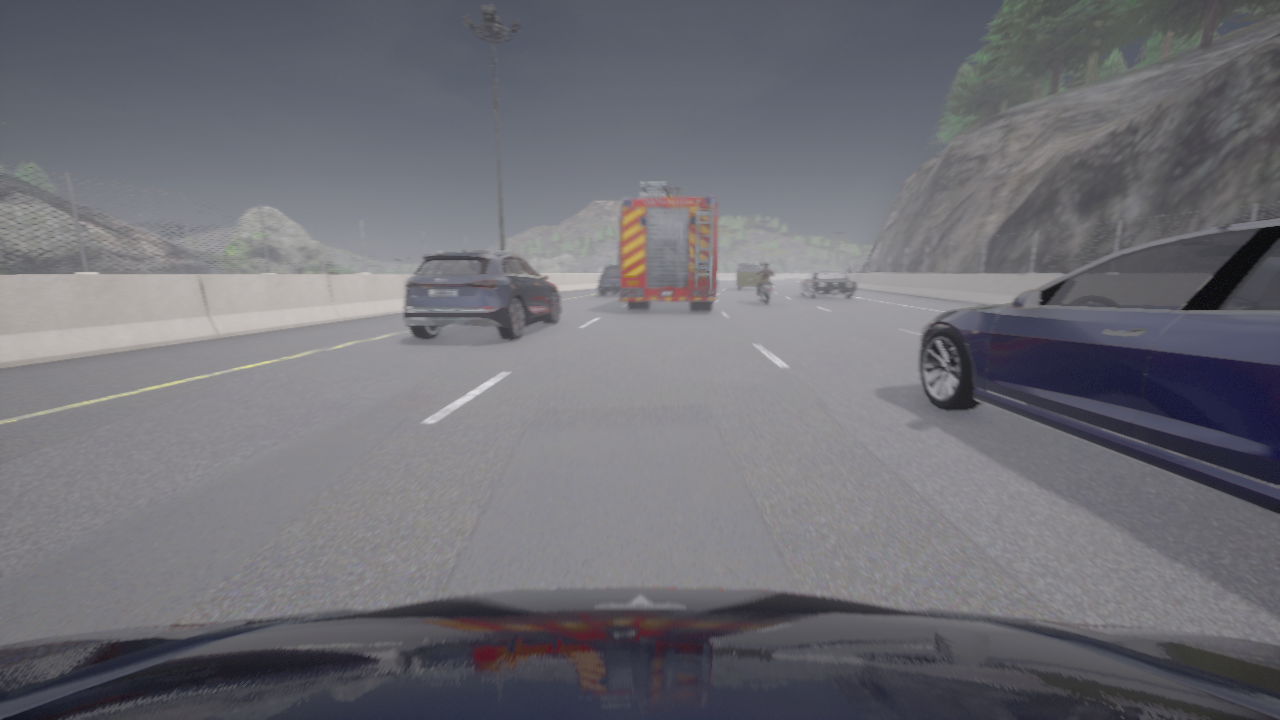cyclist: (0, 588, 1279, 719), (919, 220, 1279, 515), (403, 248, 560, 340), (619, 181, 717, 310), (800, 271, 856, 298), (598, 265, 619, 295), (737, 263, 761, 289), (758, 277, 772, 304), (716, 278, 717, 287)
